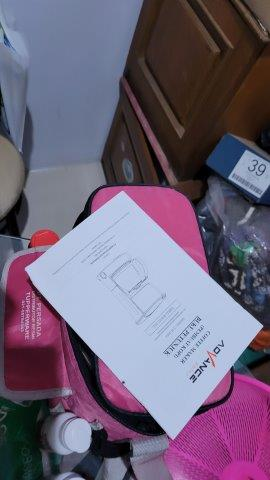kertas: (25, 189, 264, 438)
